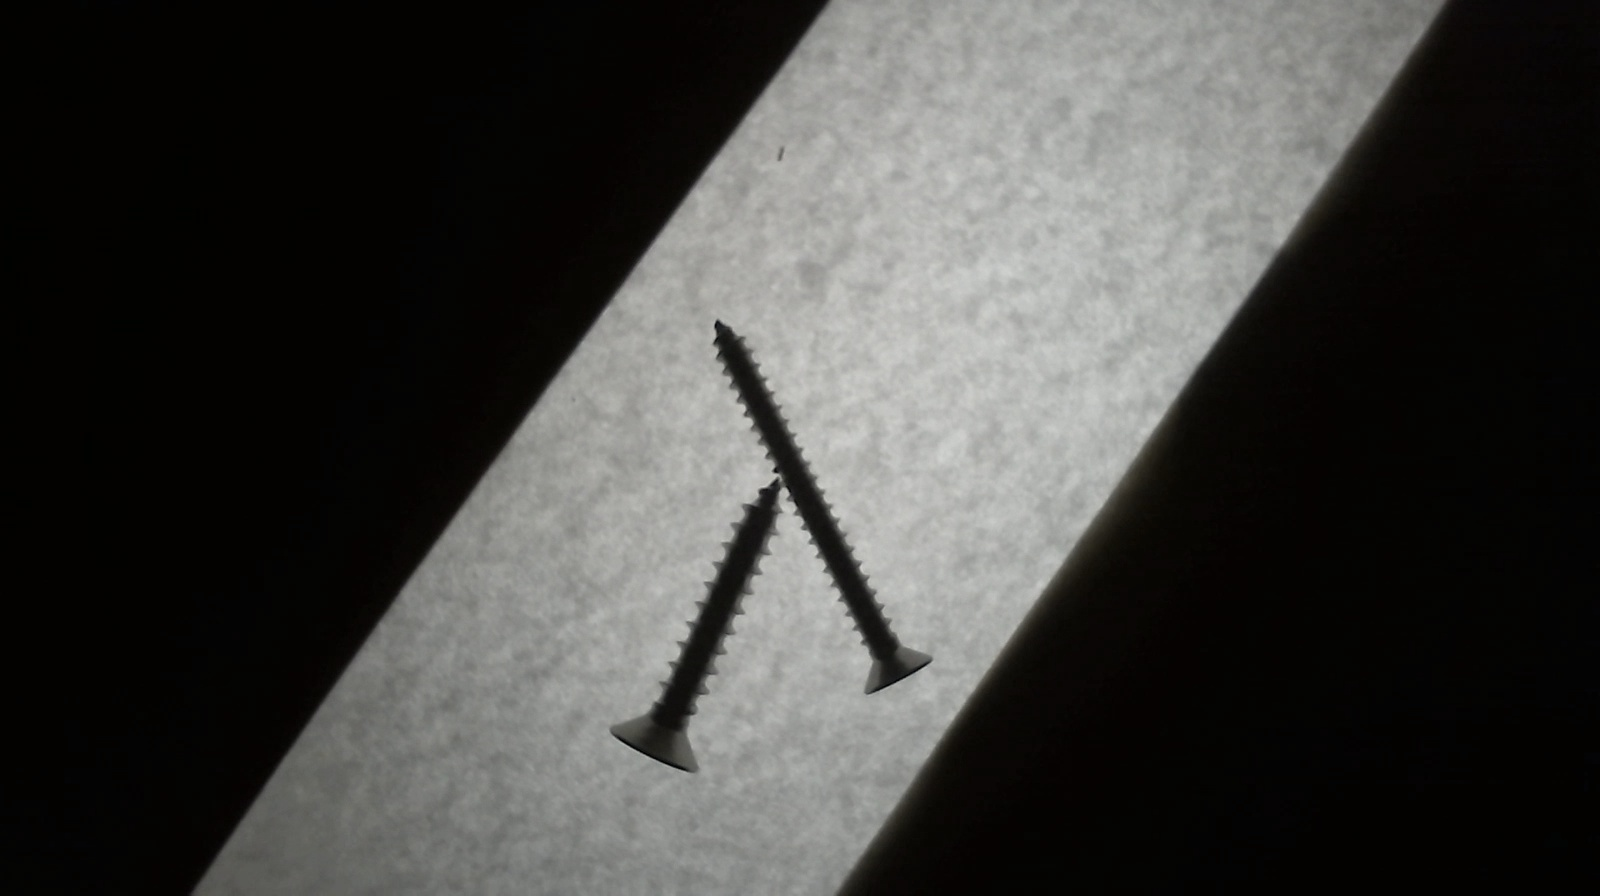S001: (607, 478, 778, 773)
S002: (711, 312, 931, 694)
